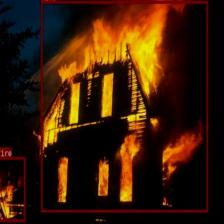fire: (40, 0, 208, 212), (0, 156, 25, 222)
